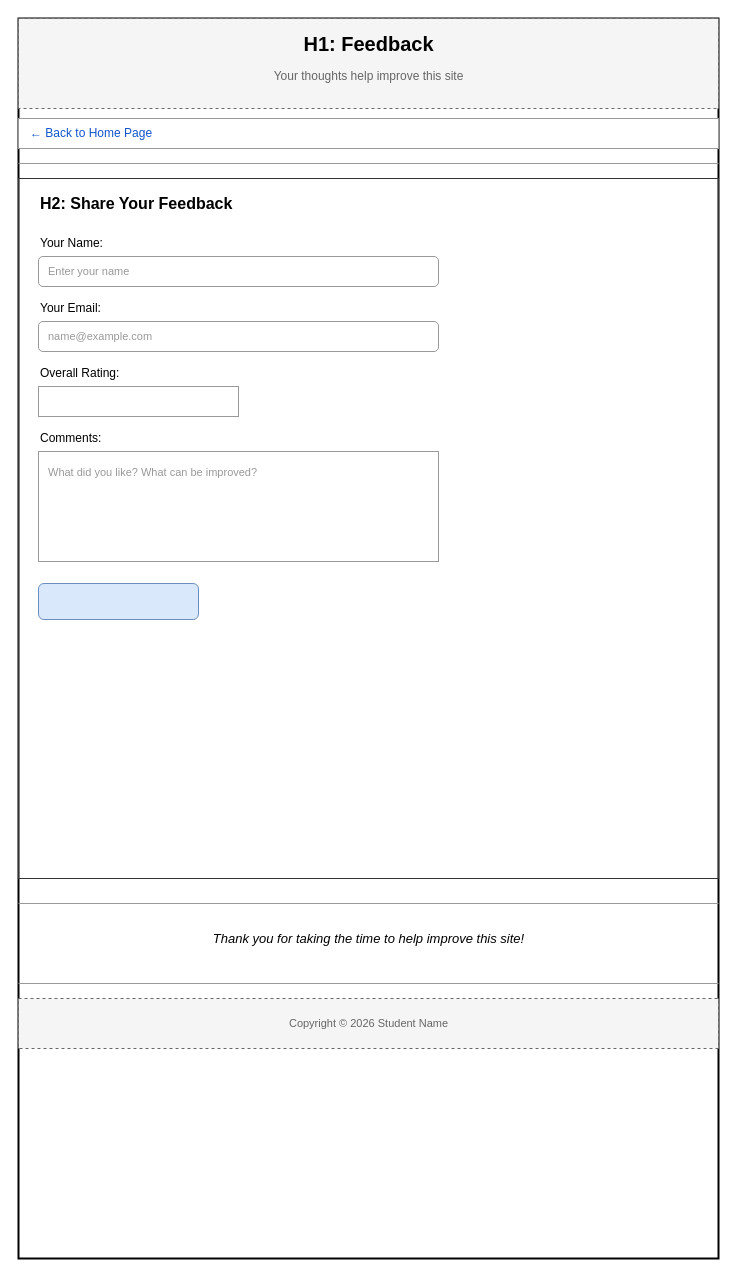
Some shapes in this 736 by 1276 pixel diagram are drawn without their labels. Each missing label, with the centre of its shape:
Excellent ▼: [138,401]
Submit Feedback: [118,601]
